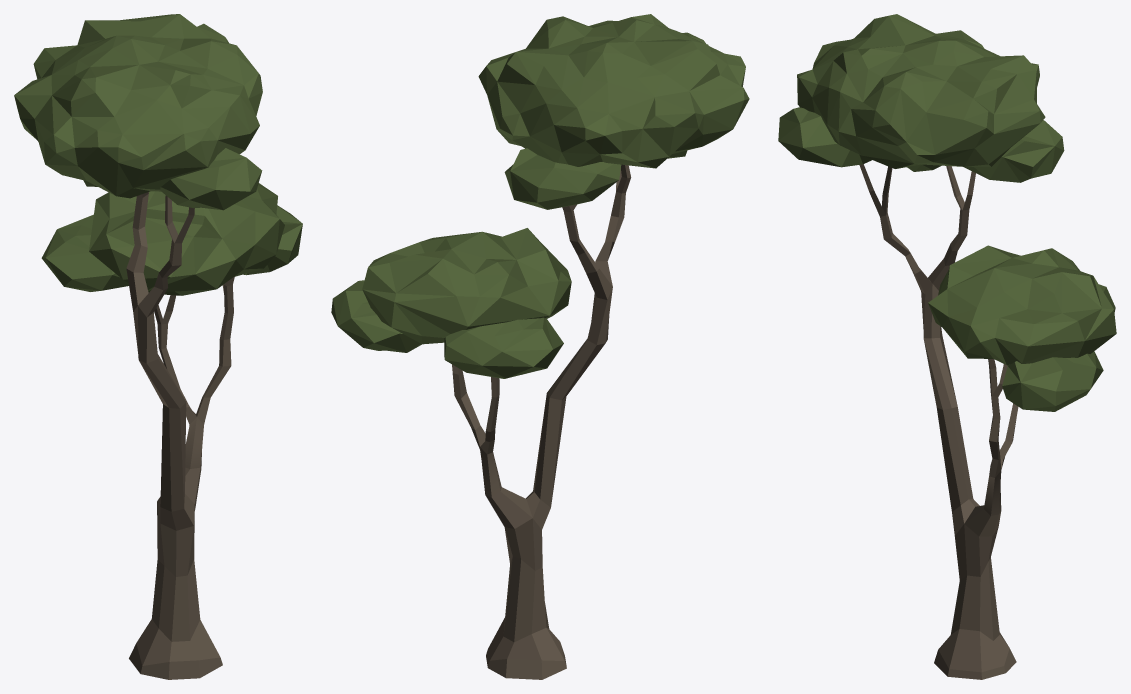
The model's file is Tree_9.gltf.
3 views of the same model, side by side, from view 1: azimuth 30°, elevation 25°; view 2: azimuth 150°, elevation 25°; view 3: azimuth 270°, elevation 25° (orthographic). The views are drawn at different scales.
Parts seen in each view (by area): view 1: Tree_09; view 2: Tree_09; view 3: Tree_09.
Boxes of the visible parts, bbox=[...] form: Tree_09: bbox=[14, 14, 302, 679]; Tree_09: bbox=[331, 14, 749, 679]; Tree_09: bbox=[778, 14, 1116, 679].
Bounding box in the file's own units: 0.5903 × 1.08 × 0.5573.
Materials: 1 (1 with a texture image).
